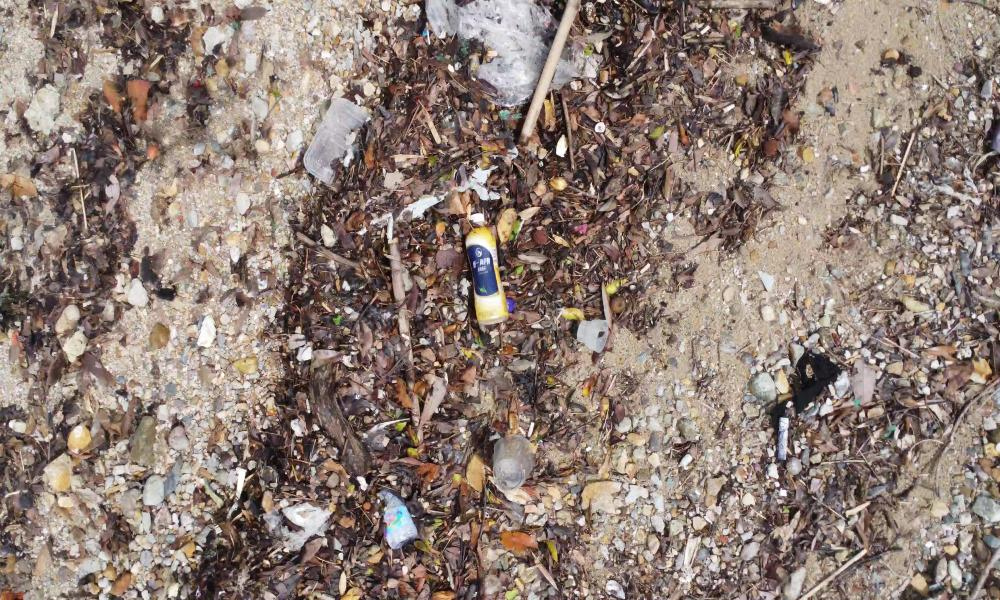plastic bottle: (450, 214, 524, 327), (374, 485, 420, 551)
